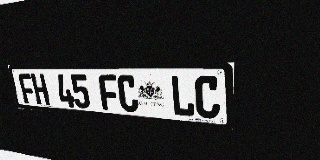4: (55, 74, 75, 108)
5: (70, 74, 91, 109)
C: (194, 76, 220, 119), (116, 75, 139, 113)
F: (98, 75, 120, 111), (18, 74, 37, 104)
H: (30, 74, 50, 105)
L: (170, 75, 195, 117)
